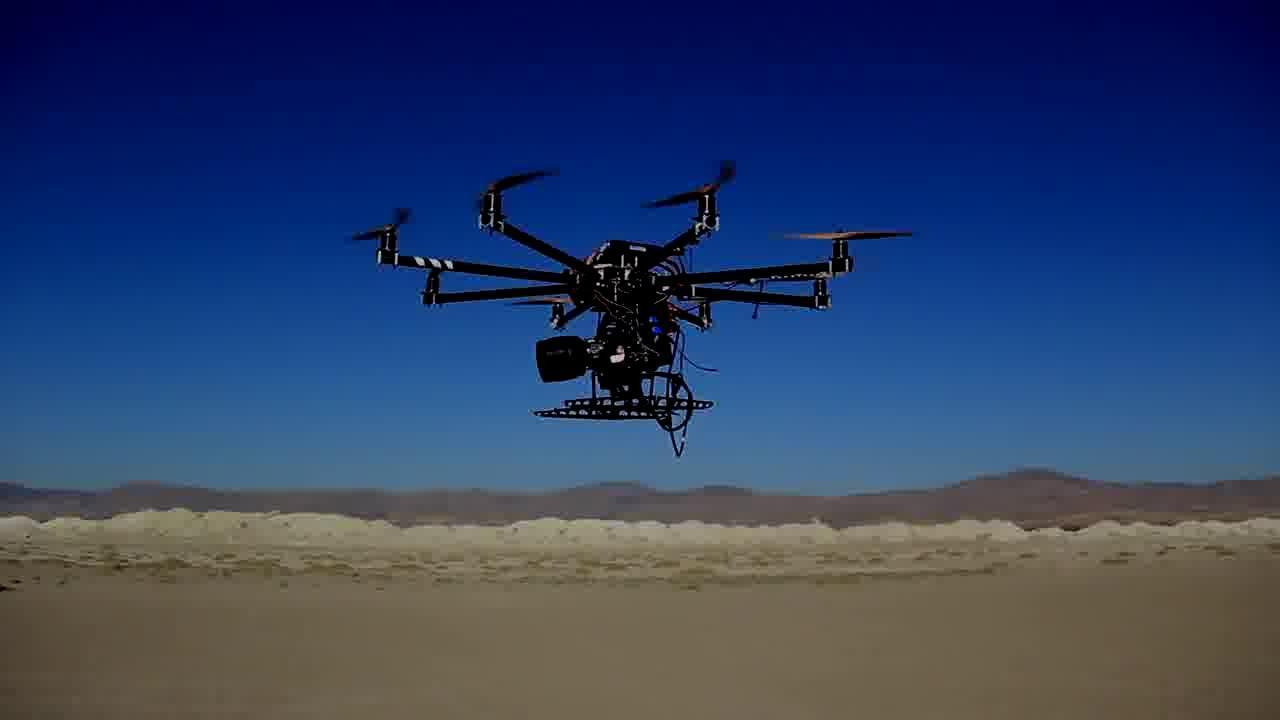drone: (343, 159, 927, 423)
